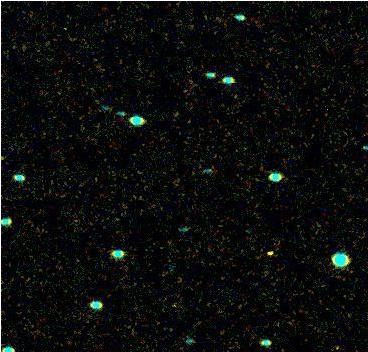star: (253, 239, 283, 269)
